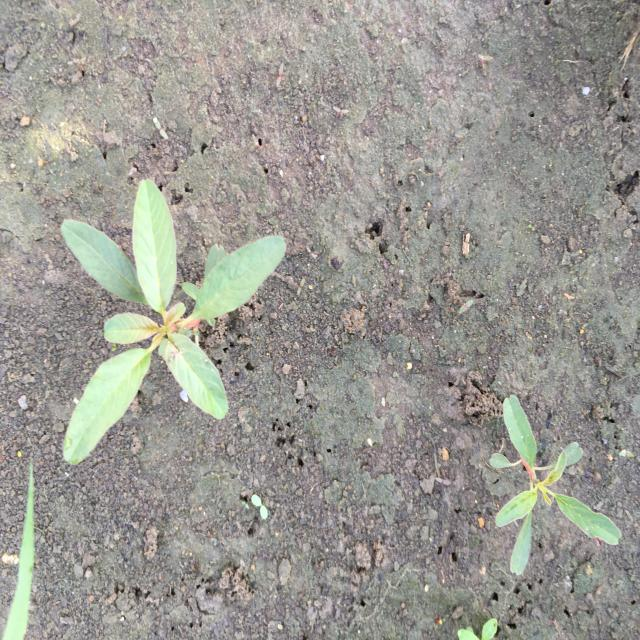Waterhemp: (57, 176, 290, 468), (487, 393, 625, 580)
